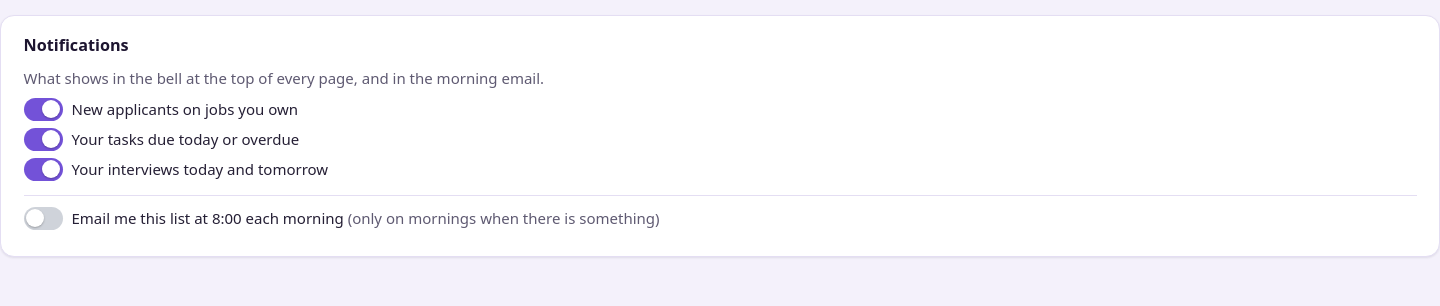
Test case: NotificationSettings › offers a switch for each kind the user can get, and saves turning one off
Click the switch labelled "Your tasks due today or overdue" at point(43, 139), box [24,128,62,151]
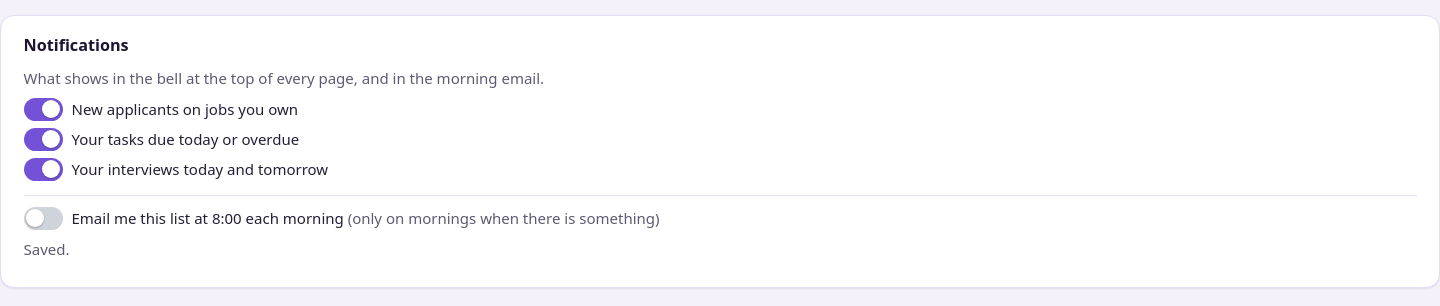
Result: the text "Saved." is shown at [24,239,70,259]
